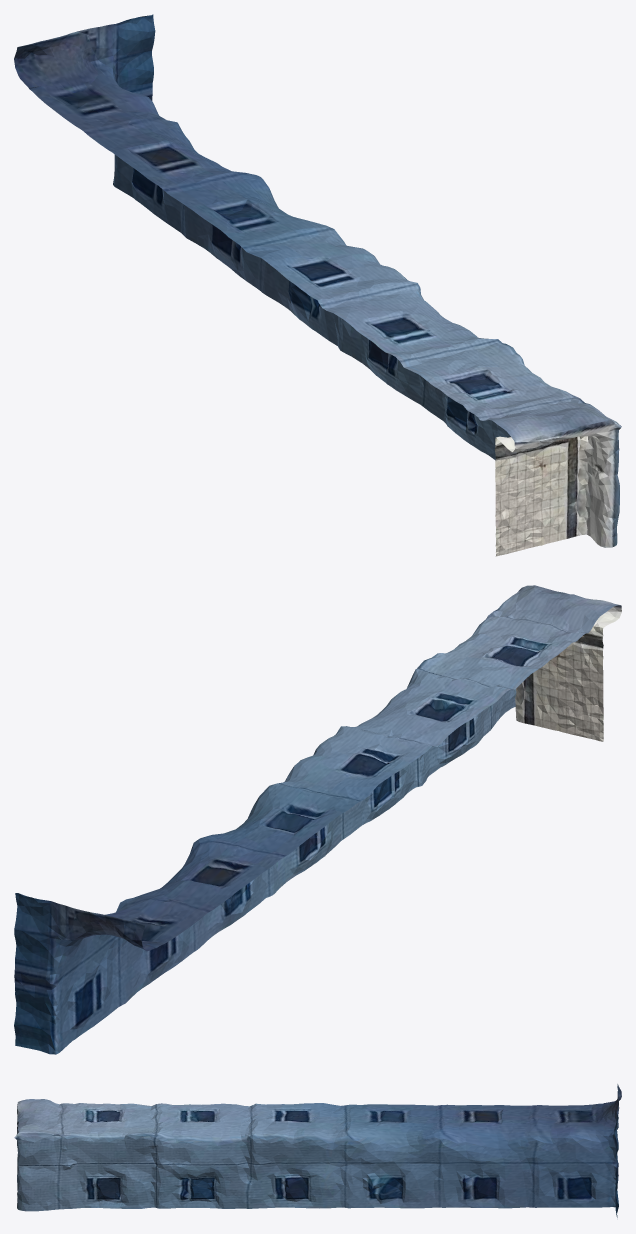
Rendered from tile_5_20_23_tex.obj.
The picture shows the model from 3 angles, top to bottom: view 1: azimuth 30°, elevation 25°; view 2: azimuth 150°, elevation 25°; view 3: azimuth 270°, elevation 25°; orthographic projection. The views are drawn at different scales.
Parts seen in each view (by area): view 1: obj_0; view 2: obj_0; view 3: obj_0.
Boxes of the visible parts, <box> form: obj_0: <box>14,14,621,556</box>; obj_0: <box>14,585,621,1054</box>; obj_0: <box>14,1084,621,1217</box>.
Bounding box in the file's own units: 5.01 × 5.64 × 32.28.
1 material, 1 textured.
